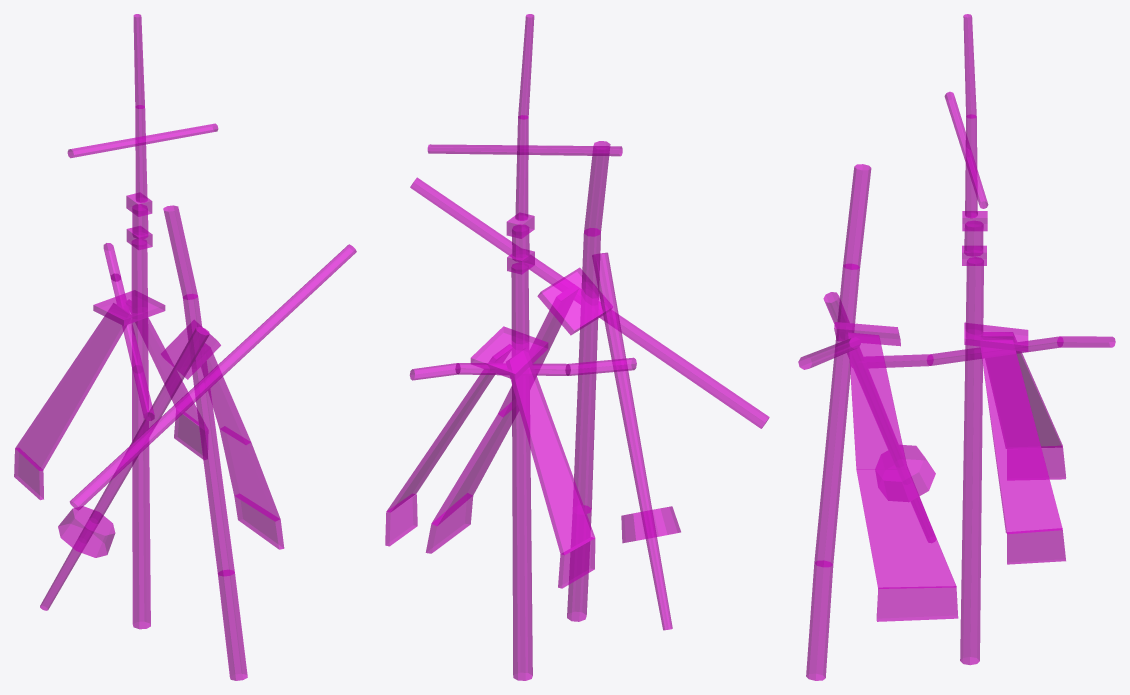
The model's file is SM_Prop_Wreck_Large_Back_01_Masts_Collision.fbx.
3 renders of one model, left to right at view 1: azimuth 30°, elevation 25°; view 2: azimuth 150°, elevation 25°; view 3: azimuth 270°, elevation 25°, orthographic. The views are drawn at different scales.
Parts seen in each view (by area): view 1: SM_Prop_Wreck_Large_Back_01_Masts_Collision; view 2: SM_Prop_Wreck_Large_Back_01_Masts_Collision; view 3: SM_Prop_Wreck_Large_Back_01_Masts_Collision.
Part boxes in pixels (x1=…): SM_Prop_Wreck_Large_Back_01_Masts_Collision: x1=14, y1=14, x2=356, y2=680; SM_Prop_Wreck_Large_Back_01_Masts_Collision: x1=385, y1=14, x2=769, y2=680; SM_Prop_Wreck_Large_Back_01_Masts_Collision: x1=798, y1=14, x2=1115, y2=680.
Size of the model in its own units: 1871 by 3587 by 1594.
